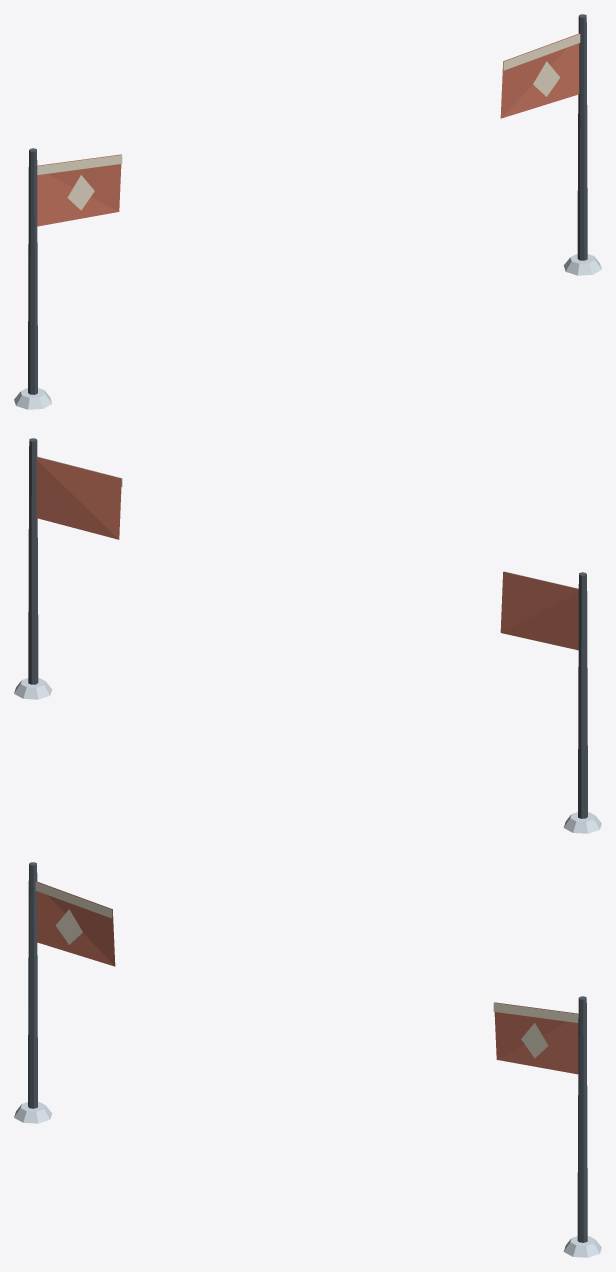
File: gate-coral.glb
3 views of the same model, one above another, from view 1: azimuth 30°, elevation 25°; view 2: azimuth 150°, elevation 25°; view 3: azimuth 330°, elevation 25° (orthographic).
Visible parts, largest first — view 1: gate-coral; view 2: gate-coral; view 3: gate-coral.
Part boxes in pixels (x1,y1,x2,y2): gate-coral: (14,14,601,409); gate-coral: (14,438,601,833); gate-coral: (14,862,601,1257).
Size of the model in its own units: 6.8 by 2.8 by 0.4.
